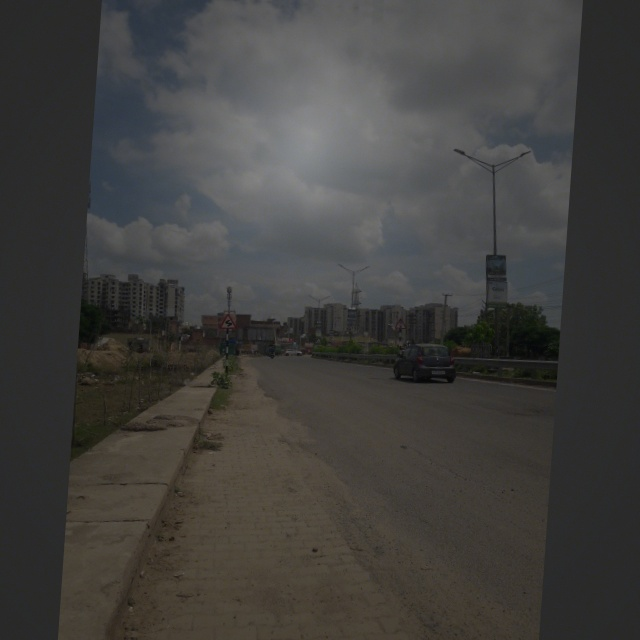Left_Reverse_Bend: (214, 310, 243, 335)
